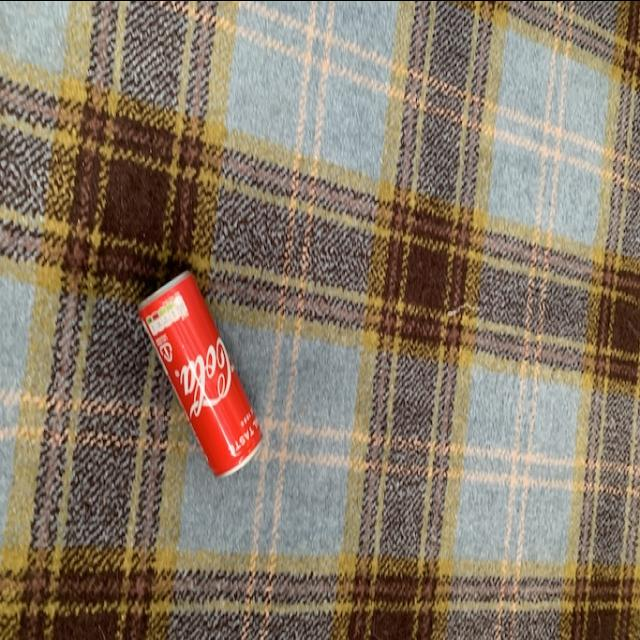litter: (130, 258, 266, 482)
